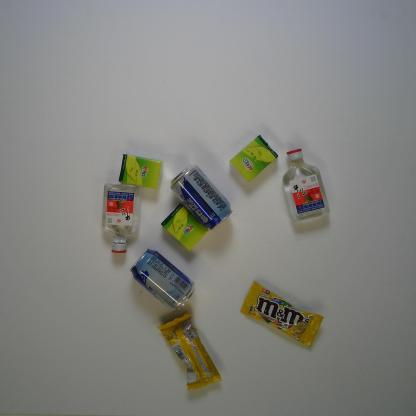Alcohol: (130, 248, 196, 312), (170, 165, 233, 231), (282, 147, 330, 223), (102, 183, 141, 254)
Chocolate: (239, 281, 324, 348), (157, 312, 222, 392)
Tissue: (230, 134, 279, 183), (160, 203, 209, 252), (119, 154, 162, 189)
